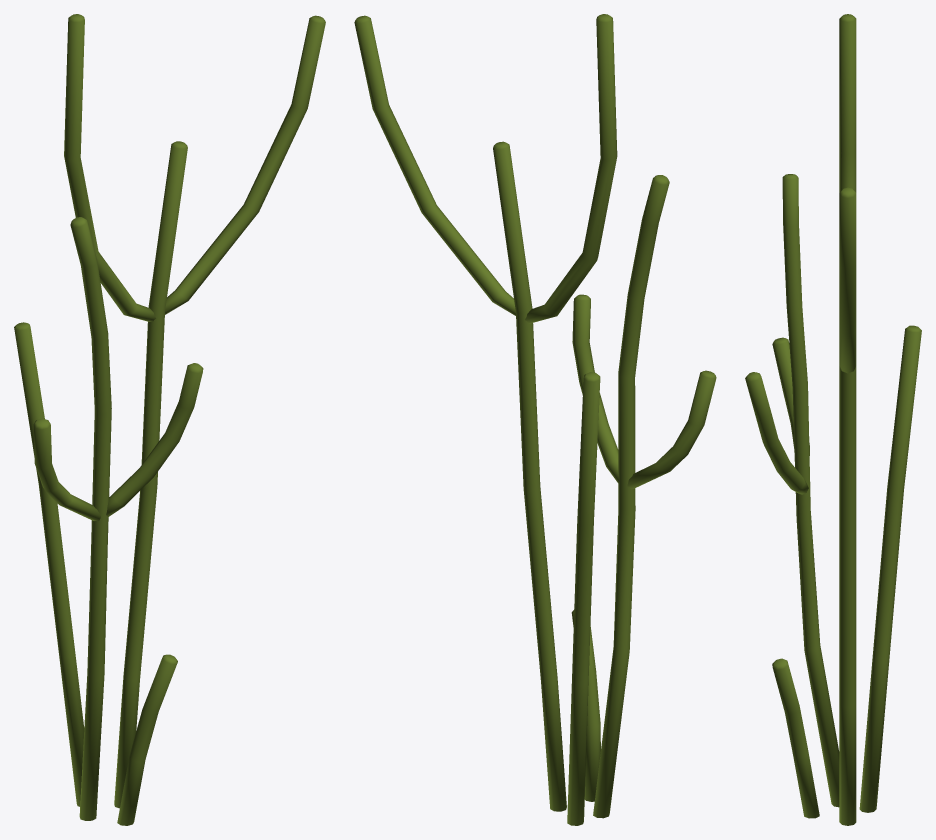
The model's file is PencilCactus_1.fbx.
The picture shows the model from 3 angles, left to right: view 1: azimuth 30°, elevation 25°; view 2: azimuth 150°, elevation 25°; view 3: azimuth 270°, elevation 25°; orthographic projection. The views are drawn at different scales.
Visible parts, largest first — view 1: PC_Tall, PC_Medium, PC_Stem.001, PC_Stem; view 2: PC_Tall, PC_Medium, PC_Stem.001, PC_Stem; view 3: PC_Tall, PC_Medium, PC_Stem.001, PC_Stem.
Boxes of the visible parts, x1,y1,x2,y2 form: PC_Tall: (64,14,325,808); PC_Medium: (33,217,203,820); PC_Stem.001: (14,322,84,806); PC_Stem: (117,654,177,825); PC_Tall: (354,14,617,811); PC_Medium: (572,175,716,818); PC_Stem.001: (567,372,600,825); PC_Stem: (571,609,600,801); PC_Tall: (839,14,856,825); PC_Medium: (745,174,839,807); PC_Stem.001: (859,325,921,812); PC_Stem: (772,658,819,818).
Bounding box in the file's own units: 1321 × 3113 × 636.
